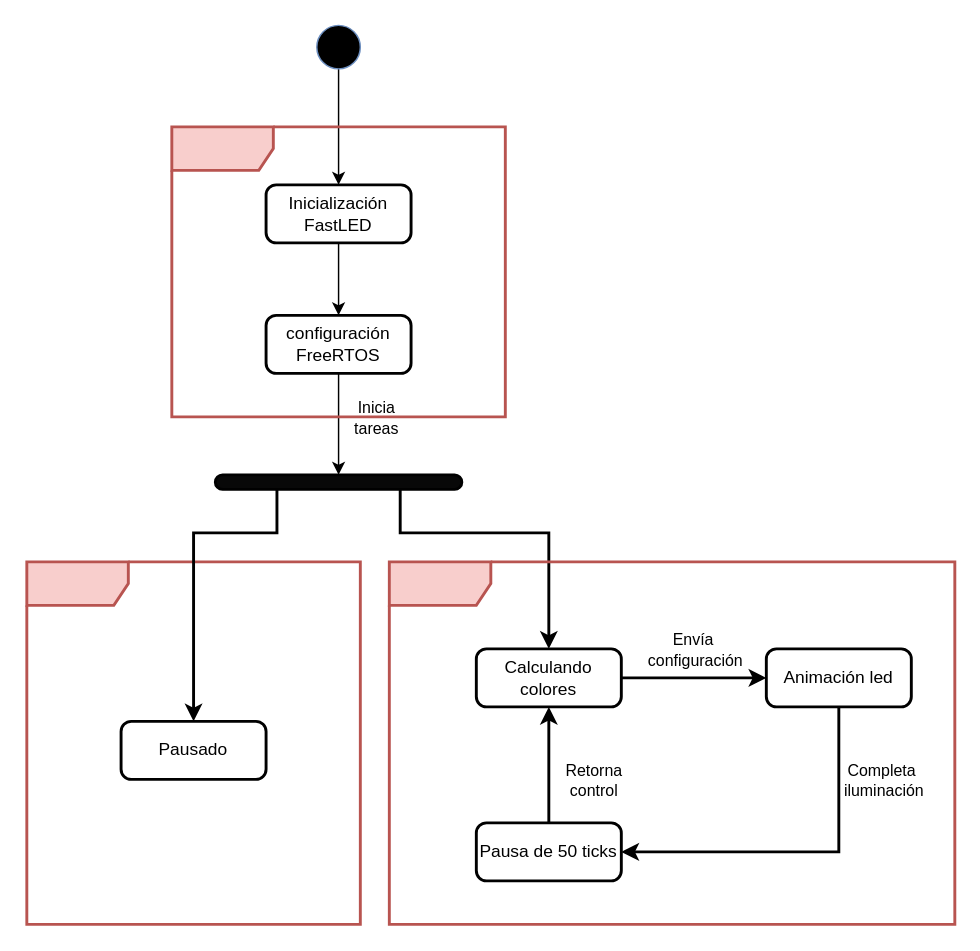
Some shapes in this 980 by 951 pixel diagram are drawn without their labels. The box of each missing label's shape, as (x1, y1, x2, y2) in pixels:
FreeRTOS: (387, 560, 956, 925)
loop: (25, 560, 361, 925)
setup: (170, 125, 506, 418)
